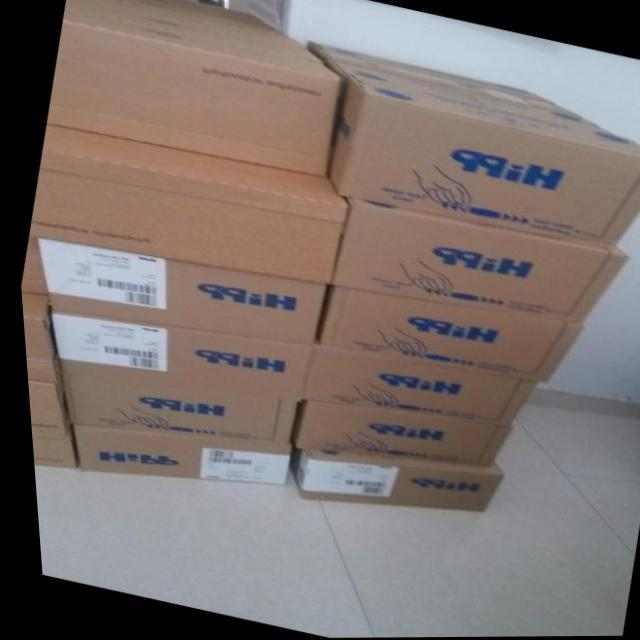box: (323, 58, 640, 250), (26, 123, 349, 287), (46, 0, 342, 178), (328, 198, 625, 326), (33, 239, 321, 346), (313, 287, 577, 384), (44, 311, 309, 400), (299, 40, 586, 119), (294, 346, 534, 428), (57, 373, 292, 443), (285, 401, 505, 467), (281, 444, 494, 512), (67, 426, 284, 485), (100, 0, 290, 41), (17, 295, 56, 385), (25, 425, 72, 471), (22, 382, 64, 426), (17, 236, 47, 296)
